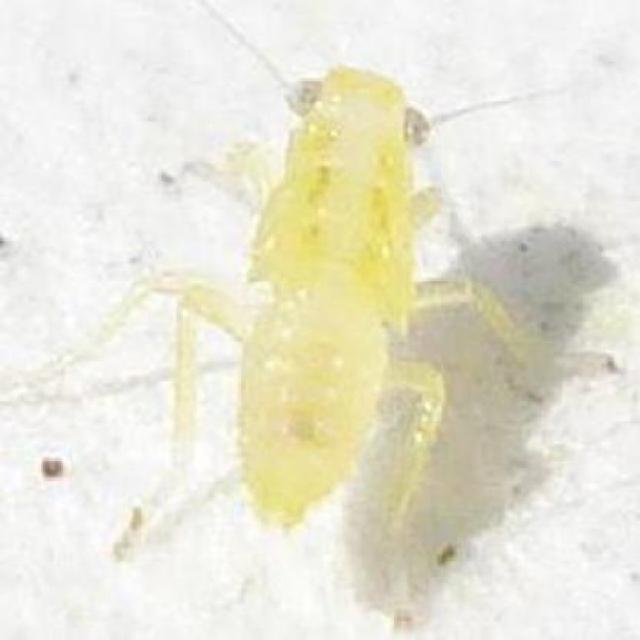green-leafhopper: (142, 58, 462, 534)
